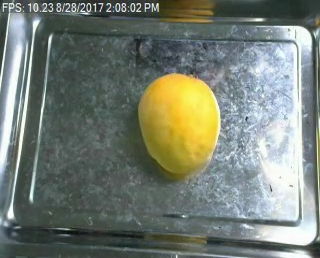Mango: (136, 73, 223, 175)
